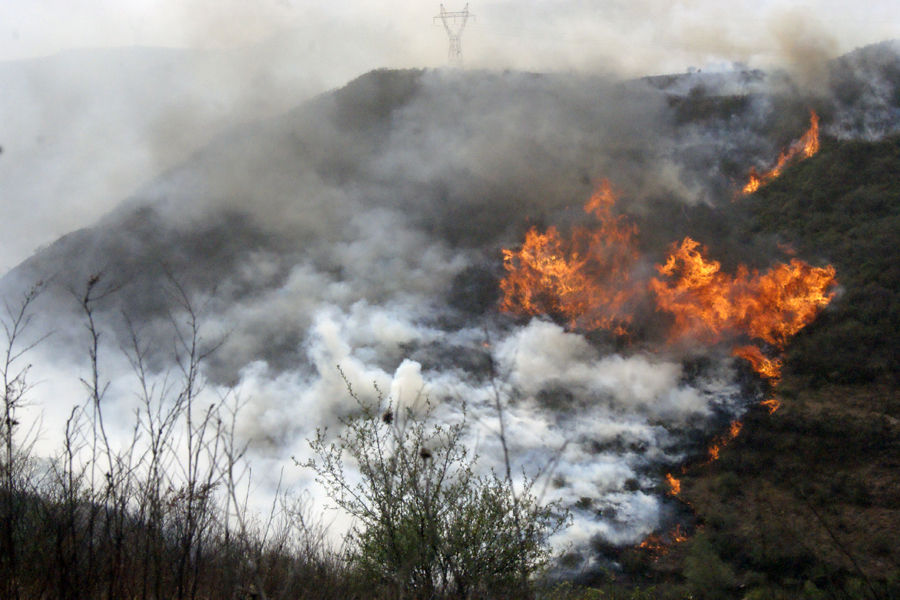fire: (494, 180, 832, 381), (745, 112, 822, 196), (704, 423, 746, 464), (666, 471, 682, 503), (760, 397, 784, 415)
smoke: (1, 1, 891, 328), (1, 329, 740, 552)
